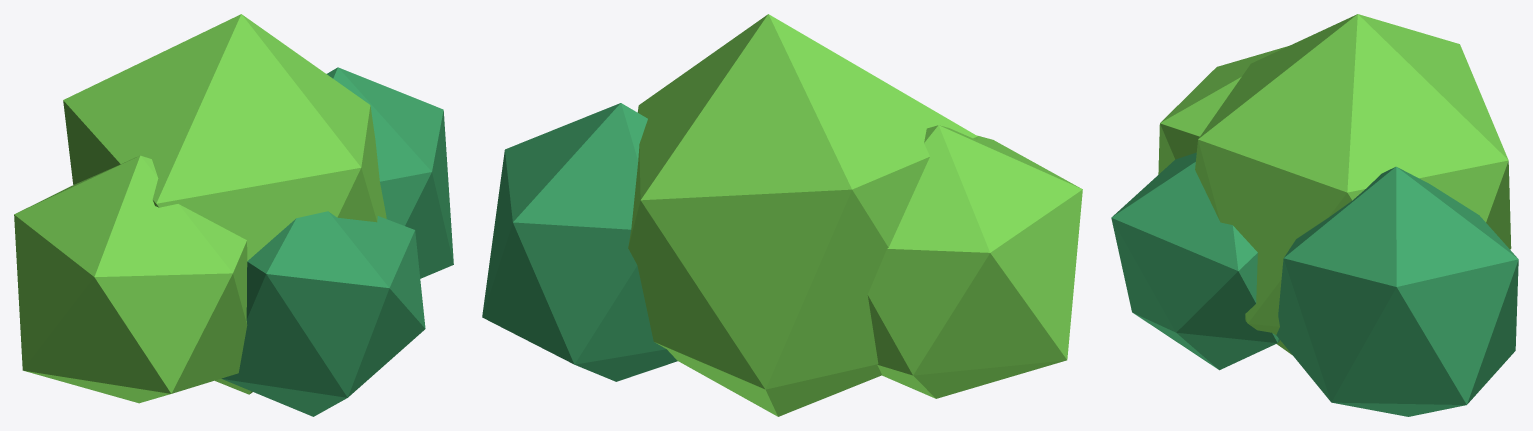
File: bush_green.glb
The picture shows the model from 3 angles, left to right: view 1: azimuth 30°, elevation 25°; view 2: azimuth 150°, elevation 25°; view 3: azimuth 270°, elevation 25°; orthographic projection. The views are drawn at different scales.
Visible parts, largest first — view 1: bush_green; view 2: bush_green; view 3: bush_green.
Part boxes in pixels (<box>): bush_green: <box>14,14,453,416</box>; bush_green: <box>482,14,1082,416</box>; bush_green: <box>1111,14,1518,416</box>.
Size of the model in its own units: 1.97 by 1.51 by 1.48.
